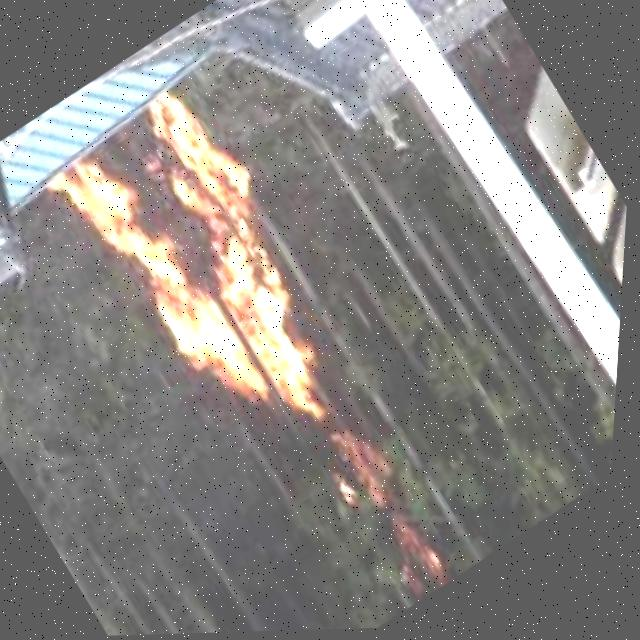Fire: (33, 69, 398, 482)
